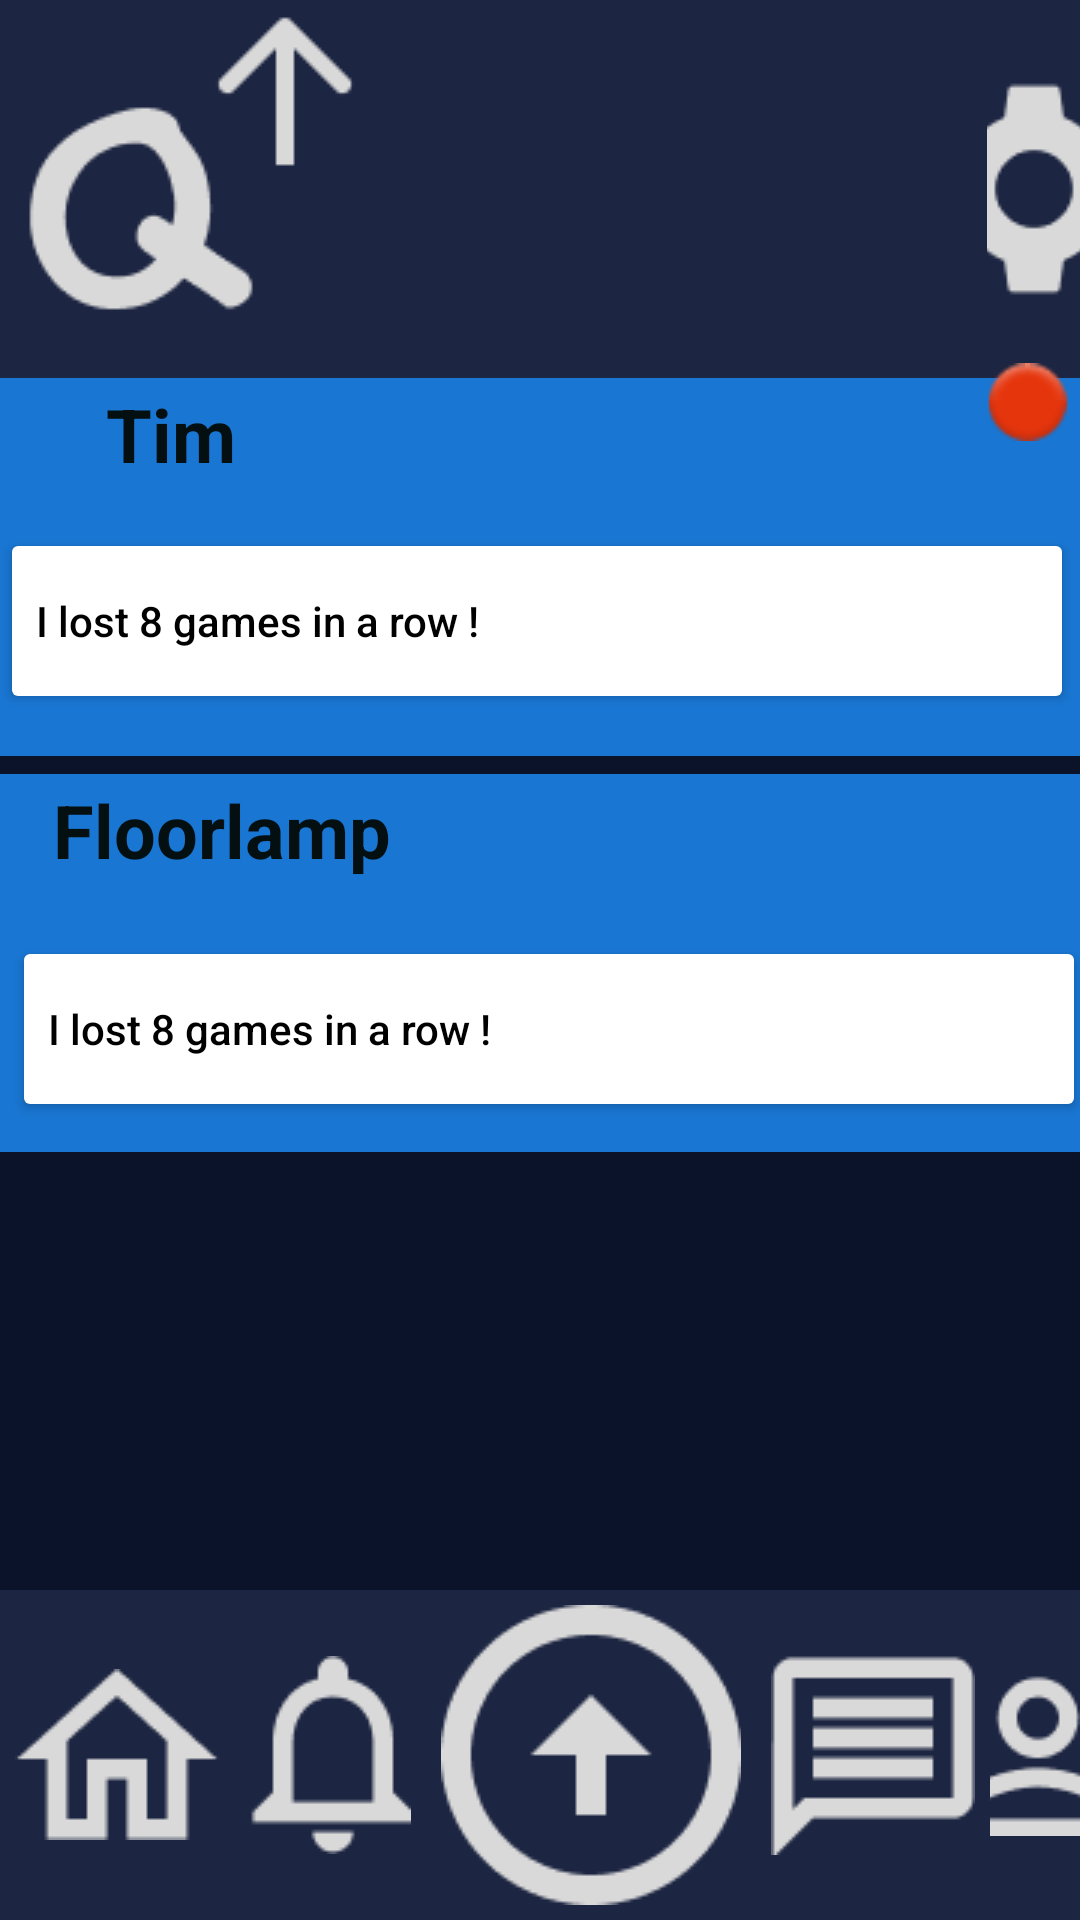

Where icons sit on this 1080px×1920px app screen, as detection(x1, y1, x2, y2):
home: detection(17, 1669, 217, 1840)
message: detection(771, 1656, 975, 1855)
notif: detection(251, 1656, 411, 1854)
profile: detection(990, 1676, 1080, 1836)
